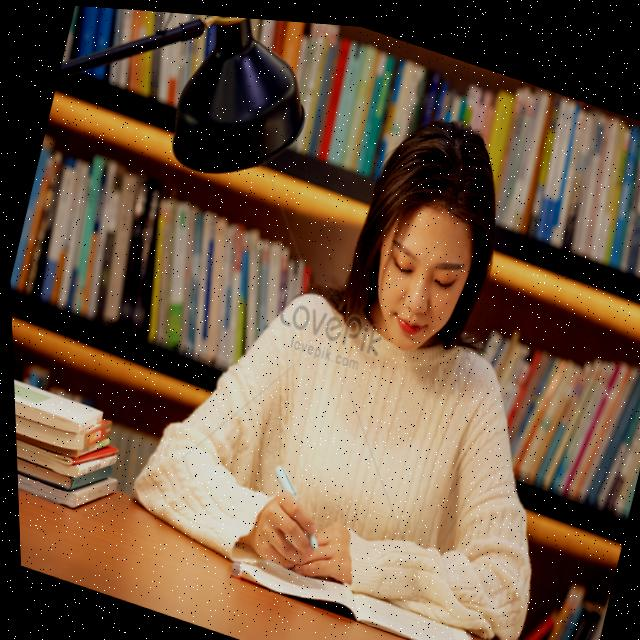studying-person: (88, 16, 640, 640)
